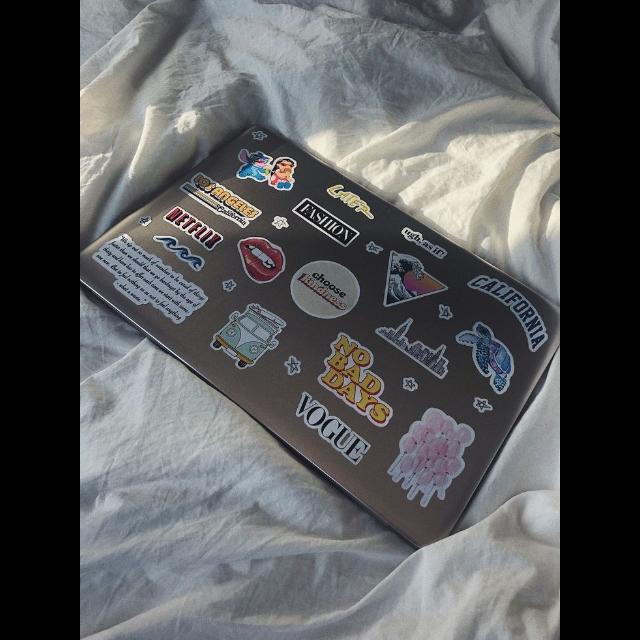laptop: (87, 124, 551, 546)
